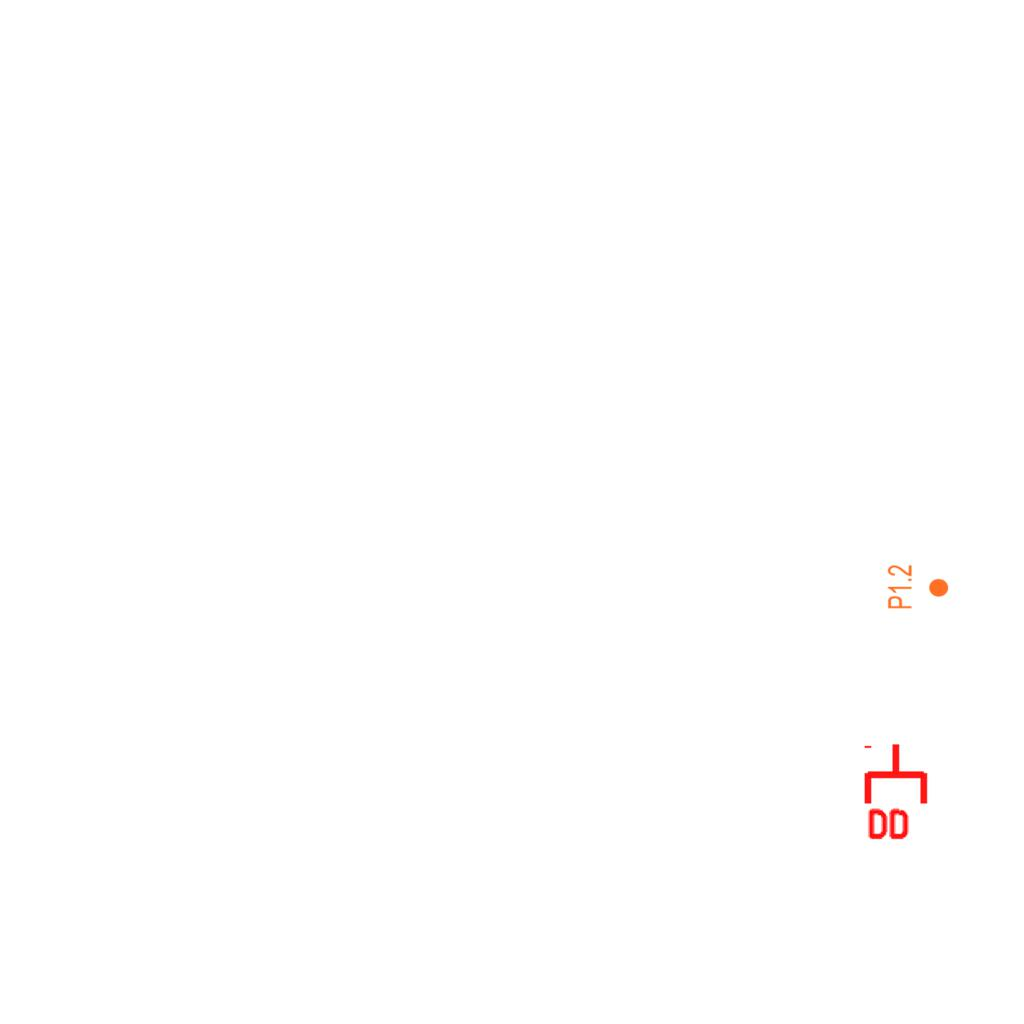Datenanschluss_zweifach: (863, 741, 932, 844)
Downlight_LED_Einbauleuchten_Flur: (886, 564, 950, 610)
